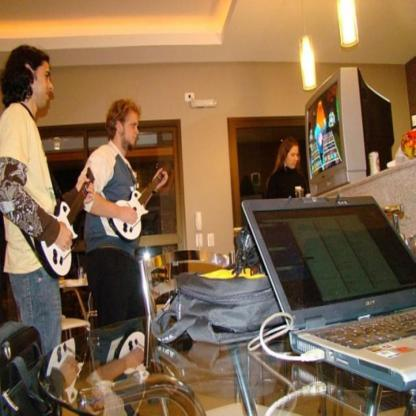board: (241, 193, 416, 394)
